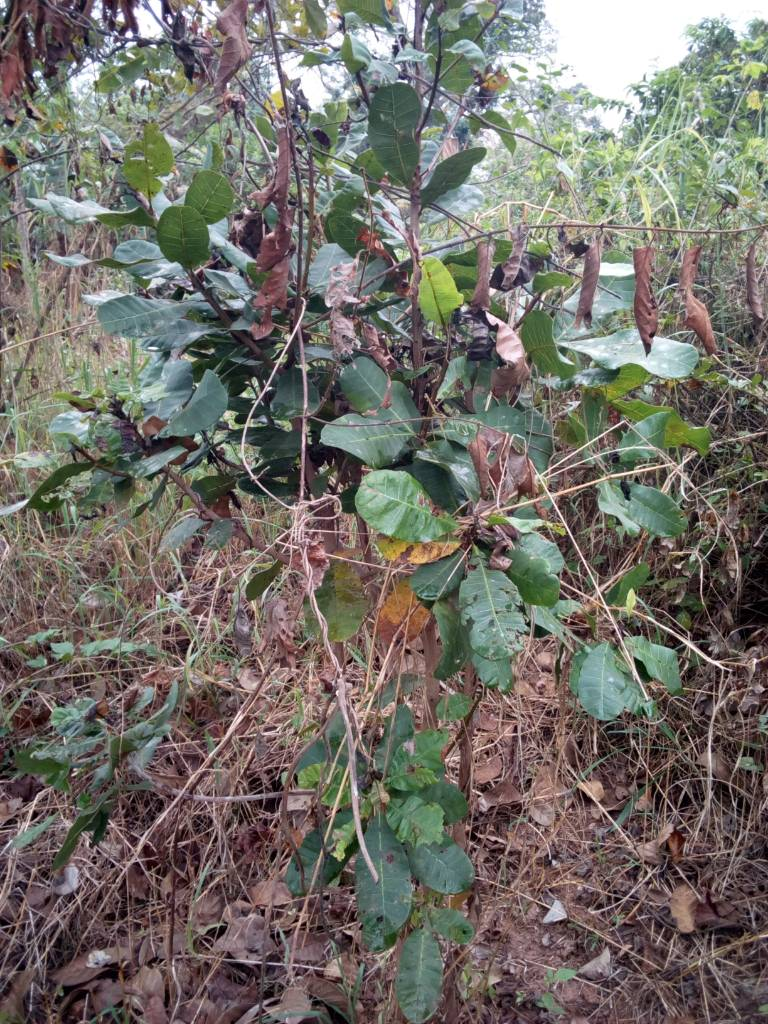Helopeltis anacardii: (358, 469, 460, 542), (460, 566, 530, 661), (580, 328, 700, 380), (615, 392, 707, 449)
